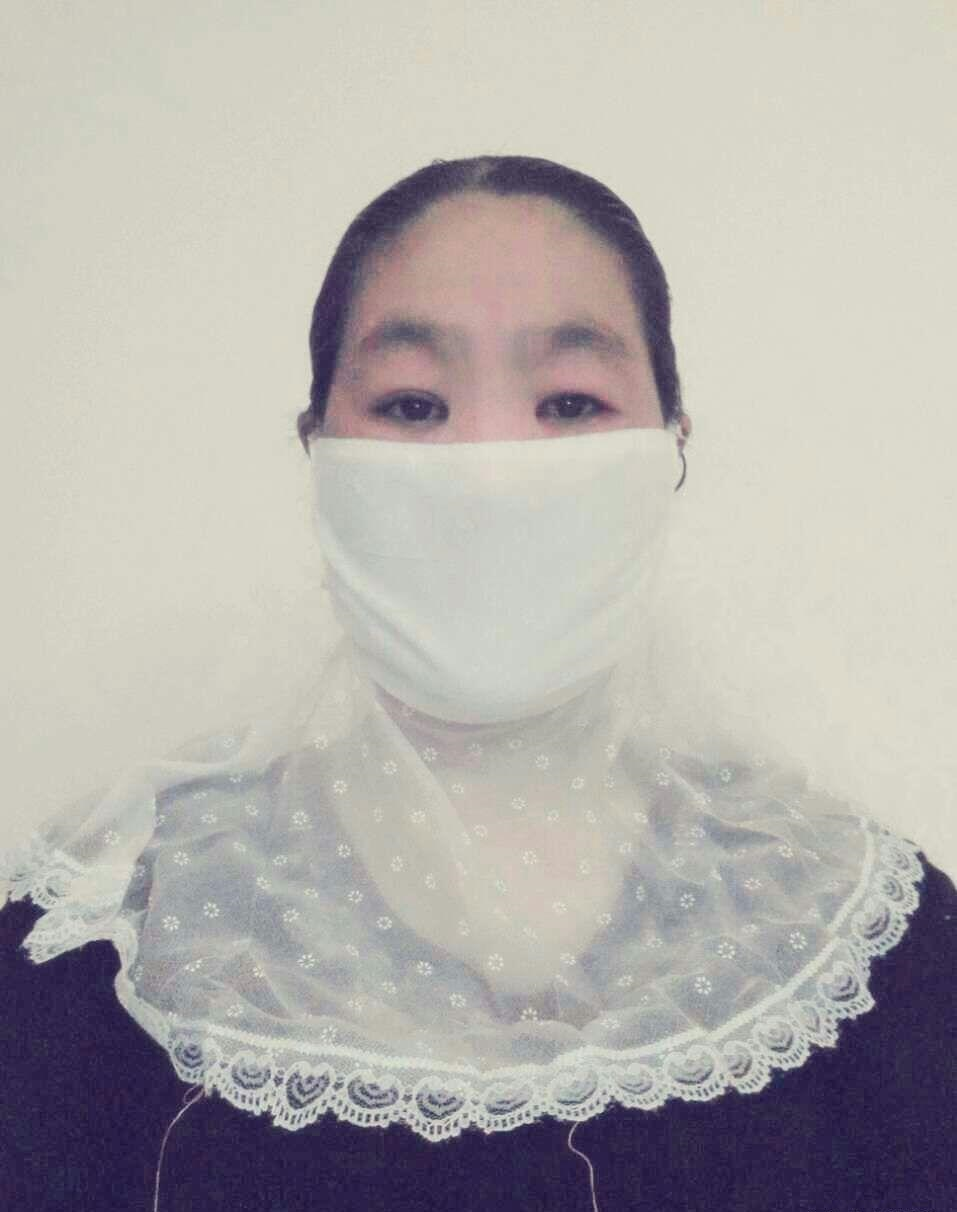face_mask: (316, 222, 656, 705)
